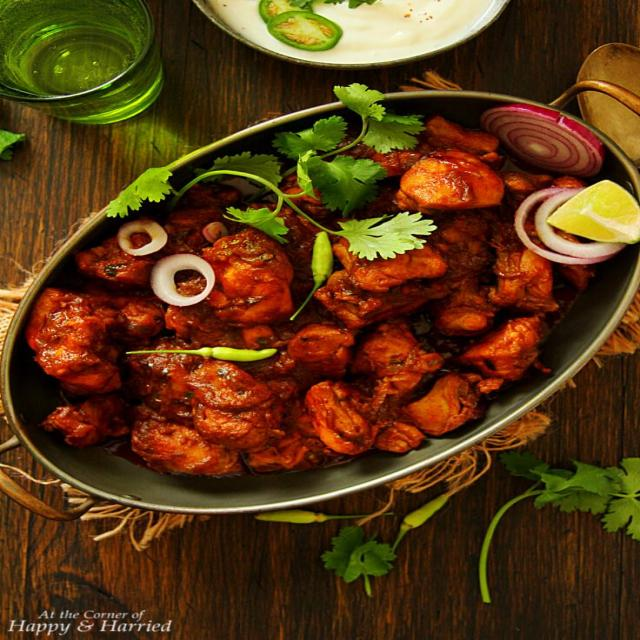chicken: (32, 128, 559, 494)
